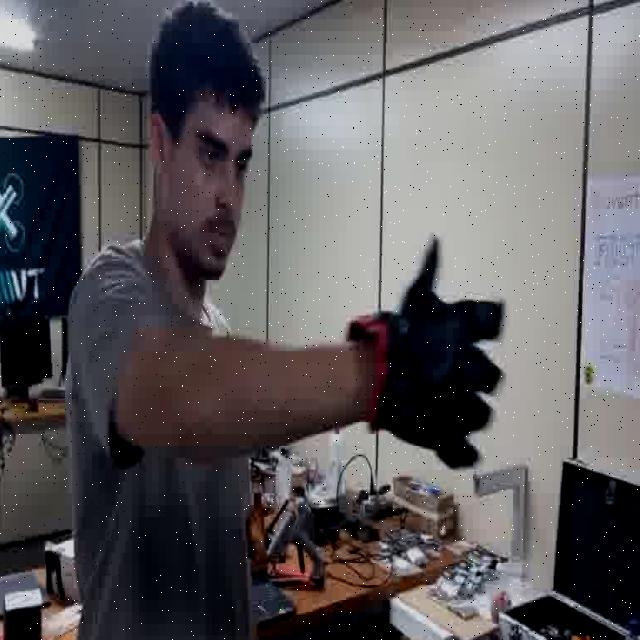Gloves: (352, 239, 506, 476)
